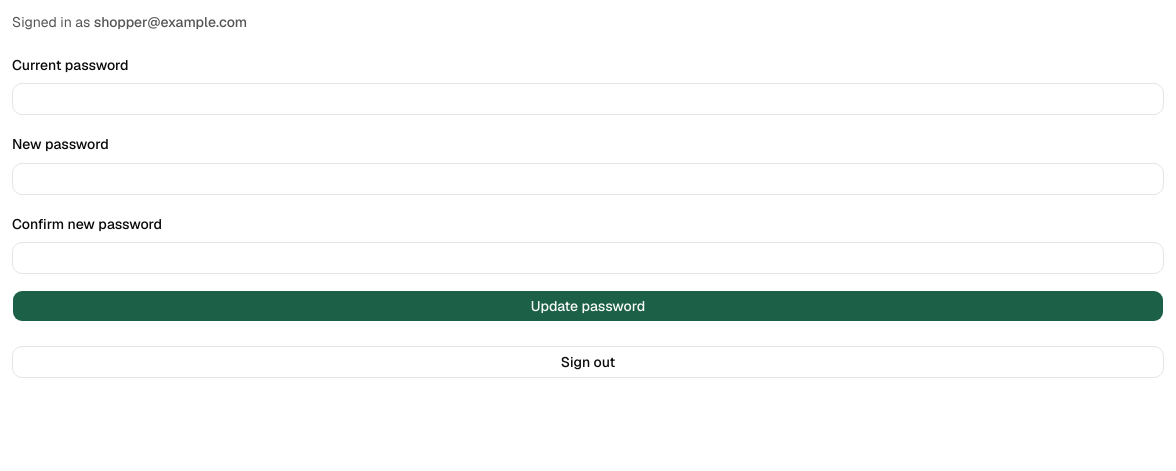
it: ChangePasswordForm › maps an un-coded 400 error to the form error banner rather than newPassword field
The width and height of the screenshot is (1176, 471).
Type "Customer123!" into the password field labelled "Current password" at (588, 99), box [12,83,1164,115]
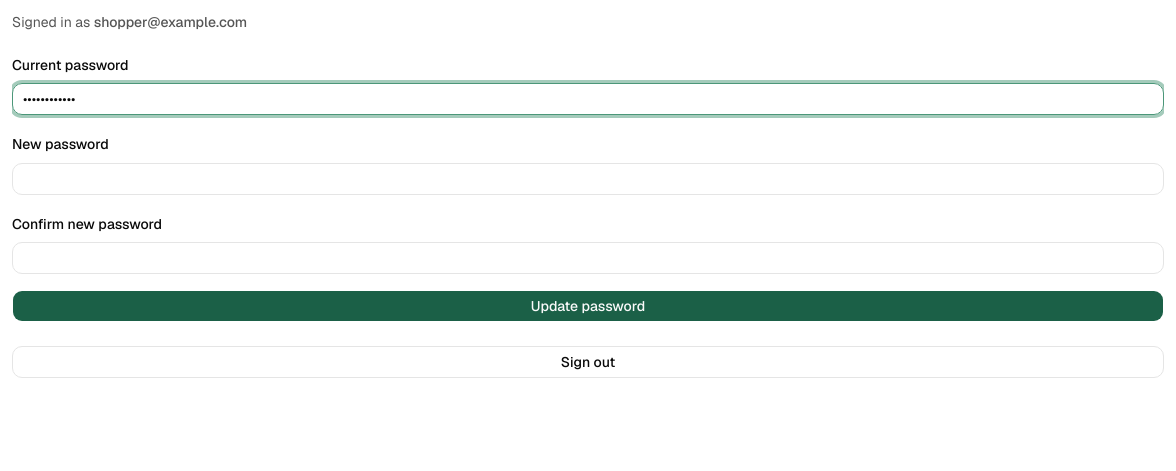
Type "Rotated123!" into the password field labelled "New password" at (588, 178), box [12,162,1164,194]
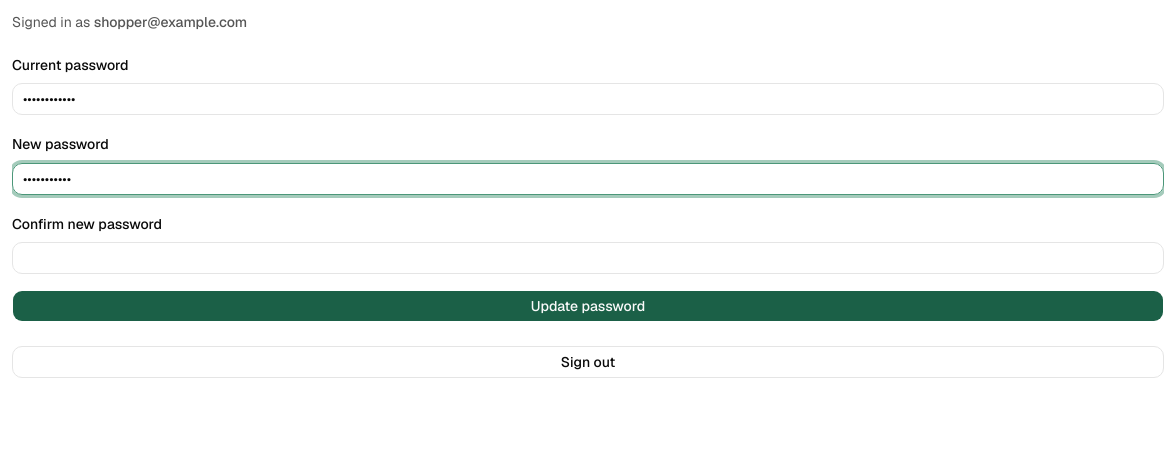
Type "Rotated123!" into the password field labelled "Confirm new password" at (588, 258), box [12,242,1164,274]
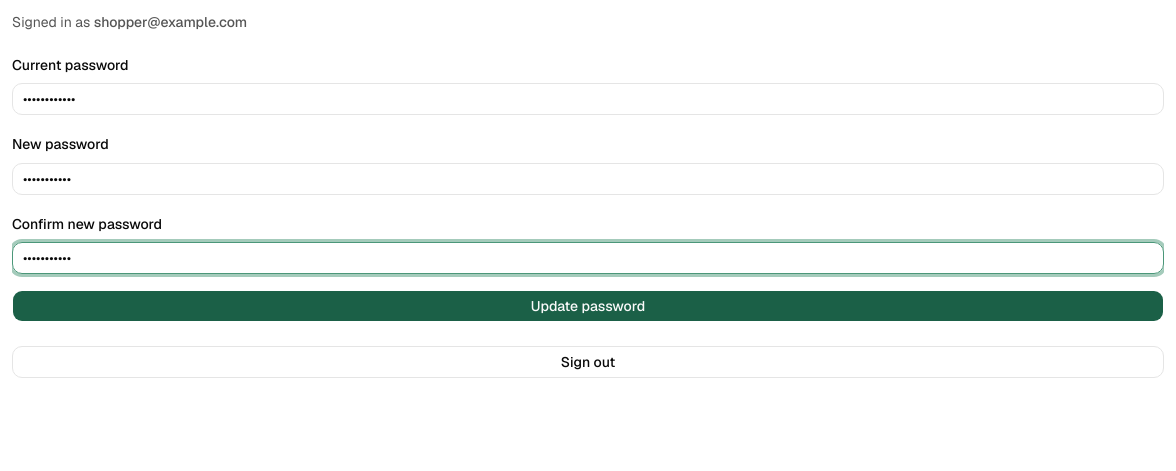
Click the button "Update password" at (588, 306), box [12,290,1164,322]
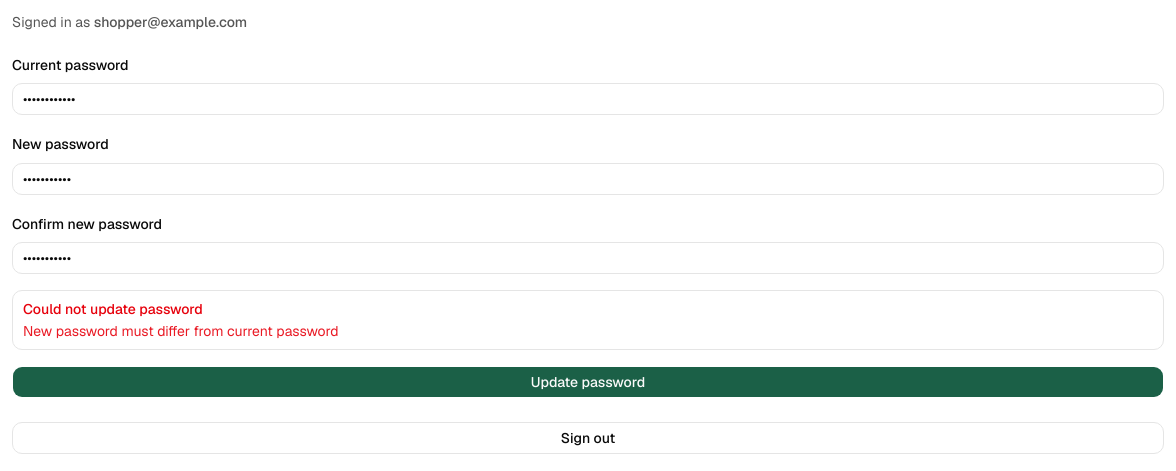
Check: the text "New password must differ from current password" is shown, box [23,322,338,340]
